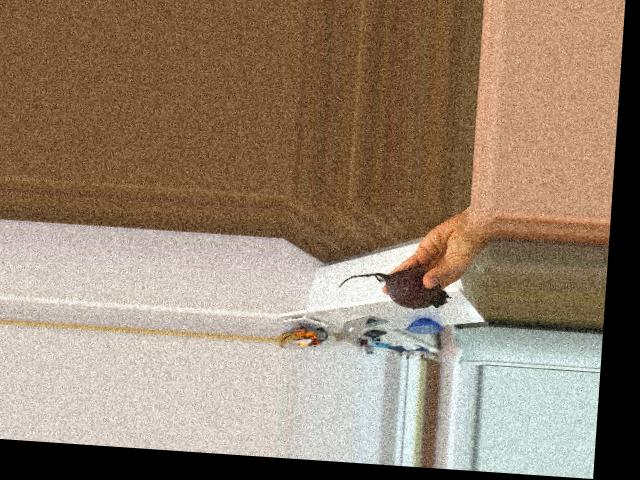beet: (337, 264, 451, 310)
